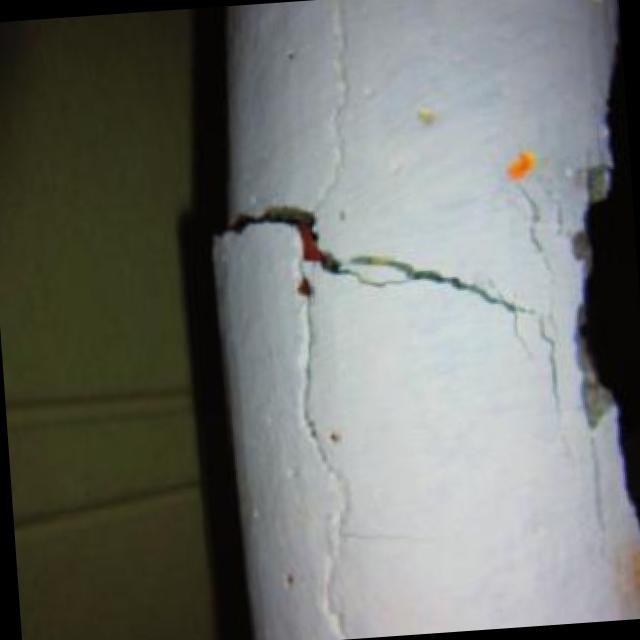crack: (209, 202, 531, 314)
